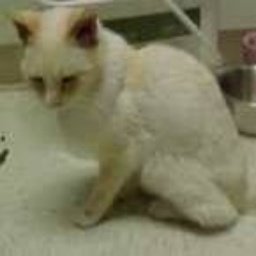cat: (4, 10, 247, 234)
